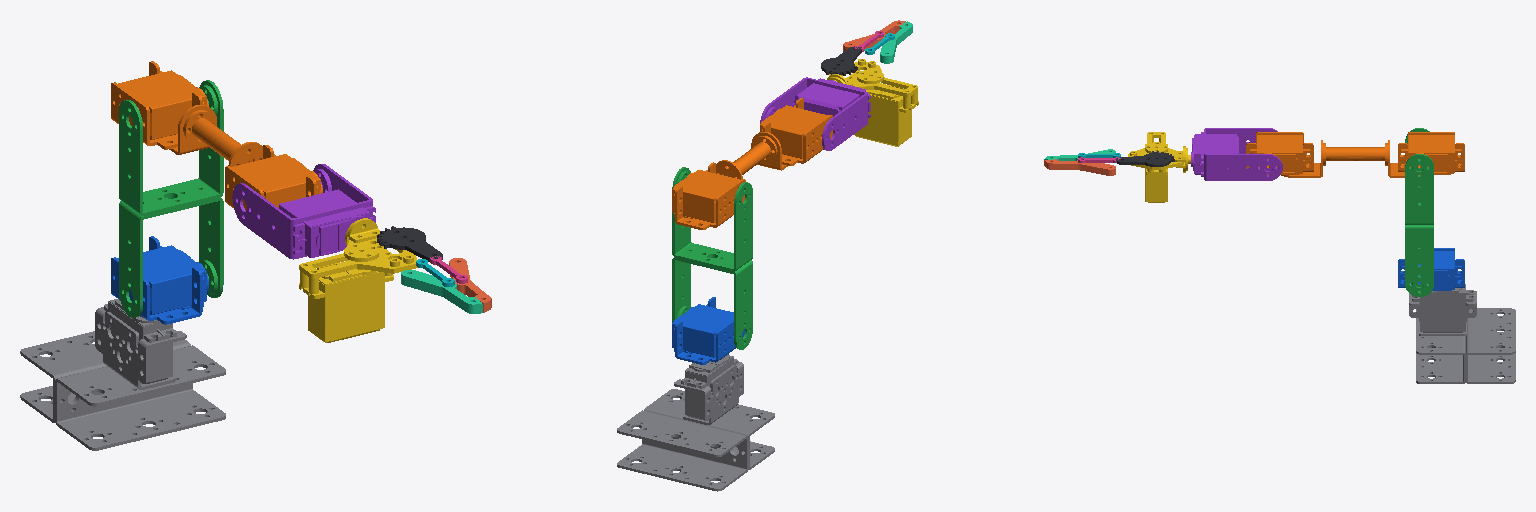
URDF robot description (robot_arm_with_gripper):
<?xml version="1.0"?>

<robot name="robot_arm_with_gripper">


  <!-- ========================================================= -->
  <!-- BASE -->
  <!-- ========================================================= -->

  <link name="base_link">
    <visual>
      <origin xyz="0 0 0" rpy="0 0 0"/>
      <geometry>
        <mesh
          filename="package://robot_arm_description/meshes/base_link.stl"
          scale="0.001 0.001 0.001"/>
      </geometry>
      <material name="mat_base">
        <color rgba="0.55 0.55 0.58 1.0"/>
      </material>
    </visual>
  </link>


  <!-- ========================================================= -->
  <!-- LINK 1 -->
  <!-- ========================================================= -->

  <link name="link_1">
    <visual>
      <origin xyz="-0.000000 0.029745 -0.071600" rpy="0 0 0"/>
      <geometry>
        <mesh
          filename="package://robot_arm_description/meshes/link_1.stl"
          scale="0.001 0.001 0.001"/>
      </geometry>
      <material name="mat_link_1">
        <color rgba="0.15 0.45 0.90 1.0"/>
      </material>
    </visual>
  </link>


  <!-- ========================================================= -->
  <!-- LINK 2 -->
  <!-- ========================================================= -->

  <link name="link_2">
    <visual>
      <origin xyz="-0.008600 0.039745 -0.090850" rpy="0 0 0"/>
      <geometry>
        <mesh
          filename="package://robot_arm_description/meshes/link_2.stl"
          scale="0.001 0.001 0.001"/>
      </geometry>
      <material name="mat_link_2">
        <color rgba="0.20 0.70 0.35 1.0"/>
      </material>
    </visual>
  </link>


  <!-- ========================================================= -->
  <!-- LINK 3 -->
  <!-- ========================================================= -->

  <link name="link_3">
    <visual>
      <origin xyz="-0.008600 0.039745 -0.201340" rpy="0 0 0"/>
      <geometry>
        <mesh
          filename="package://robot_arm_description/meshes/link_3.stl"
          scale="0.001 0.001 0.001"/>
      </geometry>
      <material name="mat_link_3">
        <color rgba="0.95 0.50 0.12 1.0"/>
      </material>
    </visual>
  </link>


  <!-- ========================================================= -->
  <!-- LINK 4 -->
  <!-- ========================================================= -->

  <link name="link_4">
    <visual>
      <origin xyz="-0.008600 0.170236 -0.201340" rpy="0 0 0"/>
      <geometry>
        <mesh
          filename="package://robot_arm_description/meshes/link_4.stl"
          scale="0.001 0.001 0.001"/>
      </geometry>
      <material name="mat_link_4">
        <color rgba="0.65 0.30 0.85 1.0"/>
      </material>
    </visual>
  </link>


  <!-- ========================================================= -->
  <!-- LINK 5 -->
  <!-- LINK 5 + GRIPPER GEAR ASSEMBLY -->
  <!-- ========================================================= -->

  <link name="link_5">

    <!-- Main Link 5 -->
    <visual>
      <origin xyz="-0.018601 0.237482 -0.201339" rpy="0 0 0"/>
      <geometry>
        <mesh
          filename="package://robot_arm_description/meshes/link_5.stl"
          scale="0.001 0.001 0.001"/>
      </geometry>
      <material name="mat_link_5">
        <color rgba="0.95 0.80 0.15 1.0"/>
      </material>
    </visual>

    <!-- Gripper Gear -->
    <visual>
      <origin xyz="-0.018601 0.237482 -0.201339" rpy="0 0 0"/>
      <geometry>
        <mesh
          filename="package://robot_arm_description/meshes/gripper_gear.stl"
          scale="0.001 0.001 0.001"/>
      </geometry>
      <material name="mat_gripper_gear">
        <color rgba="0.25 0.25 0.28 1.0"/>
      </material>
    </visual>

    <!-- Link 5 Collision -->
    <collision>
      <origin xyz="-0.018601 0.237482 -0.201339" rpy="0 0 0"/>
      <geometry>
        <mesh
          filename="package://robot_arm_description/meshes/link_5.stl"
          scale="0.001 0.001 0.001"/>
      </geometry>
    </collision>

    <!-- Link 5 Inertia -->
    <inertial>
      <origin xyz="0 0 0" rpy="0 0 0"/>
      <mass value="0.45"/>
      <inertia
        ixx="0.0009"
        ixy="0.0"
        ixz="0.0"
        iyy="0.0009"
        iyz="0.0"
        izz="0.0009"/>
    </inertial>

  </link>


  <!-- ========================================================= -->
  <!-- ARM JOINT 1 -->
  <!-- ========================================================= -->

  <joint name="joint_1" type="continuous">
    <parent link="base_link"/>
    <child link="link_1"/>

    <origin
      xyz="0.000000 -0.029745 0.071600"
      rpy="0 0 0"/>

    <axis xyz="0 0 1"/>
  </joint>


  <!-- ========================================================= -->
  <!-- ARM JOINT 2 -->
  <!-- ========================================================= -->

  <joint name="joint_2" type="continuous">
    <parent link="link_1"/>
    <child link="link_2"/>

    <origin
      xyz="0.008600 -0.010000 0.019250"
      rpy="0 0 0"/>

    <axis xyz="1 0 0"/>
  </joint>


  <!-- ========================================================= -->
  <!-- ARM JOINT 3 -->
  <!-- ========================================================= -->

  <joint name="joint_3" type="continuous">
    <parent link="link_2"/>
    <child link="link_3"/>

    <origin
      xyz="0.000000 0.000000 0.110490"
      rpy="0 0 0"/>

    <axis xyz="1 0 0"/>
  </joint>


  <!-- ========================================================= -->
  <!-- ARM JOINT 4 -->
  <!-- ========================================================= -->

  <joint name="joint_4" type="continuous">
    <parent link="link_3"/>
    <child link="link_4"/>

    <origin
      xyz="0.000000 -0.130491 0.000000"
      rpy="0 0 0"/>

    <axis xyz="1 0 0"/>
  </joint>


  <!-- ========================================================= -->
  <!-- ARM JOINT 5 -->
  <!-- ========================================================= -->

  <joint name="joint_5" type="continuous">
    <parent link="link_4"/>
    <child link="link_5"/>

    <origin
      xyz="0.010001 -0.067246 -0.000001"
      rpy="0 0 0"/>

    <axis xyz="0 1 0"/>
  </joint>


  <!-- ========================================================= -->
  <!-- LEFT GRIPPER LINK / LINKAGE -->
  <!-- ========================================================= -->

  <link name="left_gripper_link">
    <visual>
      <origin
        xyz="-0.014123 0.301592 -0.205839"
        rpy="0 0 0"/>

      <geometry>
        <mesh
          filename="package://robot_arm_description/meshes/left_gripper_link.stl"
          scale="0.001 0.001 0.001"/>
      </geometry>

      <material name="mat_left_gripper">
        <color rgba="0.10 0.75 0.80 1.0"/>
      </material>
    </visual>
  </link>


  <!-- Upper pivot of left linkage -->

  <joint name="left_gripper_link_joint" type="revolute">
    <parent link="link_5"/>
    <child link="left_gripper_link"/>

    <origin
      xyz="0.005521 -0.078110 0.004500"
      rpy="0 0 0"/>

    <axis xyz="0 0 1"/>

    <limit
      lower="-0.8"
      upper="0.8"
      effort="1.0"
      velocity="2.0"/>

    <!-- Linkage follows the finger approximately according
         to the geometry of the four-bar mechanism. -->

    <mimic
      joint="left_finger_joint"
      multiplier="0.81"
      offset="0.0"/>
  </joint>


  <!-- ========================================================= -->
  <!-- RIGHT GRIPPER LINK / LINKAGE -->
  <!-- ========================================================= -->

  <link name="right_gripper_link">
    <visual>
      <origin
        xyz="-0.023127 0.301587 -0.205839"
        rpy="0 0 0"/>

      <geometry>
        <mesh
          filename="package://robot_arm_description/meshes/right_gripper_link.stl"
          scale="0.001 0.001 0.001"/>
      </geometry>

      <material name="mat_right_gripper">
        <color rgba="0.90 0.30 0.60 1.0"/>
      </material>
    </visual>
  </link>


  <!-- Upper pivot of right linkage -->

  <joint name="right_gripper_link_joint" type="revolute">
    <parent link="link_5"/>
    <child link="right_gripper_link"/>

    <origin
      xyz="0.014526 -0.078104 0.004500"
      rpy="0 0 0"/>

    <axis xyz="0 0 1"/>

    <limit
      lower="-0.8"
      upper="0.8"
      effort="1.0"
      velocity="2.0"/>

    <!-- Opposite side of the symmetric mechanism -->

    <mimic
      joint="right_finger_joint"
      multiplier="0.81"
      offset="0.0"/>
  </joint>


  <!-- ========================================================= -->
  <!-- LEFT FINGER -->
  <!-- ========================================================= -->

  <link name="left_finger">
    <visual>
      <origin
        xyz="-0.002620 0.292298 -0.199839"
        rpy="0 0 0"/>

      <geometry>
        <mesh
          filename="package://robot_arm_description/meshes/left_finger.stl"
          scale="0.001 0.001 0.001"/>
      </geometry>

      <material name="mat_left_finger">
        <color rgba="0.20 0.85 0.65 1.0"/>
      </material>
    </visual>
  </link>


  <!-- Actual upper pivot of left finger -->

  <joint name="left_finger_joint" type="revolute">
    <parent link="link_5"/>
    <child link="left_finger"/>

    <origin
      xyz="-0.005981 -0.068816 -0.001500"
      rpy="0 0 0"/>

    <axis xyz="0 0 1"/>

    <limit
      lower="-0.8"
      upper="0.8"
      effort="1.0"
      velocity="2.0"/>
  </joint>


  <!-- ========================================================= -->
  <!-- RIGHT FINGER -->
  <!-- ========================================================= -->

  <link name="right_finger">
    <visual>
      <origin
        xyz="-0.034280 0.292093 -0.202839"
        rpy="0 0 0"/>

      <geometry>
        <mesh
          filename="package://robot_arm_description/meshes/right_finger.stl"
          scale="0.001 0.001 0.001"/>
      </geometry>

      <material name="mat_right_finger">
        <color rgba="0.95 0.45 0.30 1.0"/>
      </material>
    </visual>
  </link>


  <!-- Actual upper pivot of right finger -->

  <joint name="right_finger_joint" type="revolute">
    <parent link="link_5"/>
    <child link="right_finger"/>

    <origin
      xyz="0.025679 -0.068611 0.001500"
      rpy="0 0 0"/>

    <axis xyz="0 0 1"/>

    <limit
      lower="-0.8"
      upper="0.8"
      effort="1.0"
      velocity="2.0"/>

    <!-- Right finger mirrors left finger -->

    <mimic
      joint="left_finger_joint"
      multiplier="-1.0"
      offset="0.0"/>
  </joint>


</robot>

--- Render facts (derived) ---
The picture shows the robot from 3 angles, left to right: view 1: azimuth 30°, elevation 25°; view 2: azimuth 150°, elevation 25°; view 3: azimuth 270°, elevation 25°; orthographic projection.
Model robot_arm_with_gripper with 10 links and 9 joints (4 revolute, 5 continuous), rooted at base_link, posed all joints at 0.
Links seen in each view (by area): view 1: base_link, link_3, link_2, link_5, link_4, link_1, left_finger, right_finger; view 2: base_link, link_3, link_2, link_5, link_4, link_1, left_finger; view 3: base_link, link_3, link_2, link_4, link_5, link_1, right_finger.
Boxes of the visible links, x1,y1,x2,y2 form: base_link: [20, 299, 225, 450]; link_3: [111, 61, 322, 209]; link_2: [119, 80, 223, 317]; link_5: [299, 218, 442, 342]; link_4: [232, 164, 375, 259]; link_1: [111, 236, 208, 324]; left_finger: [401, 270, 482, 313]; right_finger: [449, 258, 491, 312]; base_link: [617, 355, 774, 491]; link_3: [672, 98, 832, 229]; link_2: [672, 167, 752, 349]; link_5: [821, 46, 918, 146]; link_4: [760, 77, 870, 150]; link_1: [672, 297, 744, 364]; left_finger: [880, 21, 912, 63]; base_link: [1409, 284, 1515, 383]; link_3: [1246, 132, 1464, 177]; link_2: [1405, 128, 1433, 296]; link_4: [1191, 128, 1282, 180]; link_5: [1116, 132, 1190, 202]; link_1: [1398, 248, 1464, 290]; right_finger: [1044, 159, 1115, 175].
Bounding box of the posed robot: 0.0945 × 0.4057 × 0.2158 m (x, y, z).
Meshes: 11 distinct files referenced, 11 mesh visuals loaded (11 binary STL).
